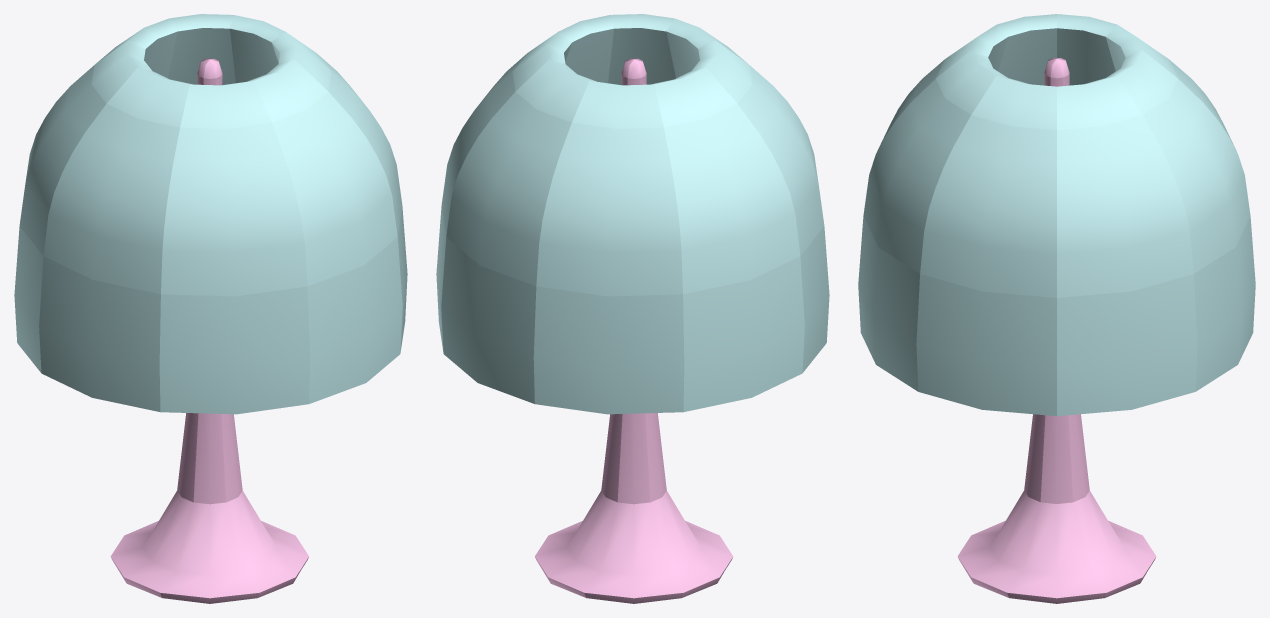
File: 1_lamp.fbx
3 views of the same model, side by side, from view 1: azimuth 30°, elevation 25°; view 2: azimuth 150°, elevation 25°; view 3: azimuth 270°, elevation 25° (orthographic).
Visible parts, largest first — view 1: 1 lamp; view 2: 1 lamp; view 3: 1 lamp.
Part boxes in pixels (x1,y1,x2,y2): 1 lamp: (14,14,407,603); 1 lamp: (436,14,829,603); 1 lamp: (858,14,1255,603).
Size of the model in its own units: 14.44 by 20.66 by 14.44.
